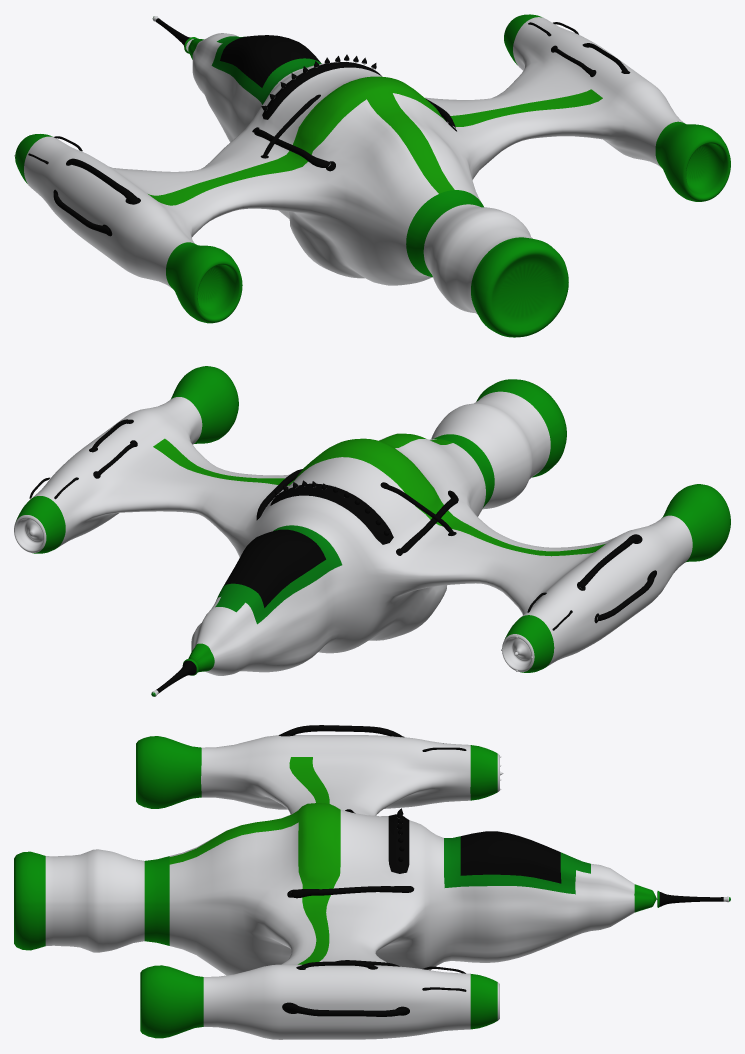
Rendered from spaceship.fbx.
3 views of the same model, one above another, from view 1: azimuth 30°, elevation 25°; view 2: azimuth 150°, elevation 25°; view 3: azimuth 270°, elevation 25° (orthographic). The views are drawn at different scales.
Parts seen in each view (by area): view 1: SpaceShipBody; view 2: SpaceShipBody; view 3: SpaceShipBody.
Part boxes in pixels (box(x1,y1,x2,y2)): SpaceShipBody: box(14, 14, 730, 337); SpaceShipBody: box(14, 366, 730, 696); SpaceShipBody: box(14, 725, 730, 1039).
Bounding box in the file's own units: 219 × 70.76 × 251.
